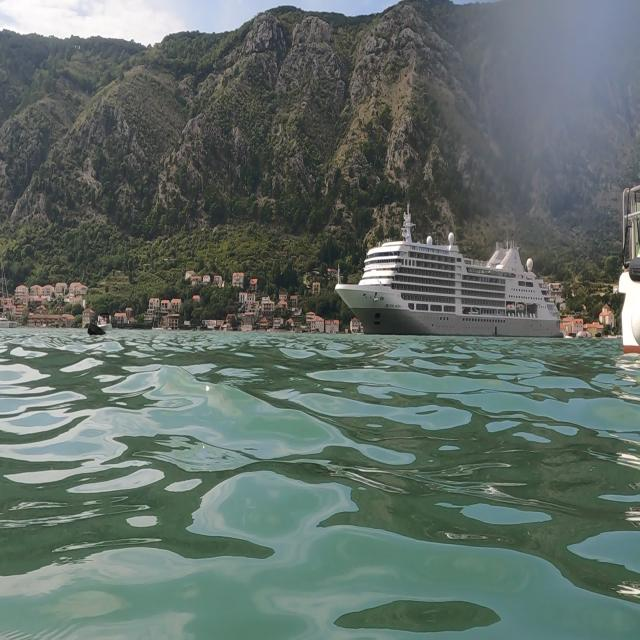boat: (332, 198, 564, 341)
buoy: (81, 316, 111, 344)
